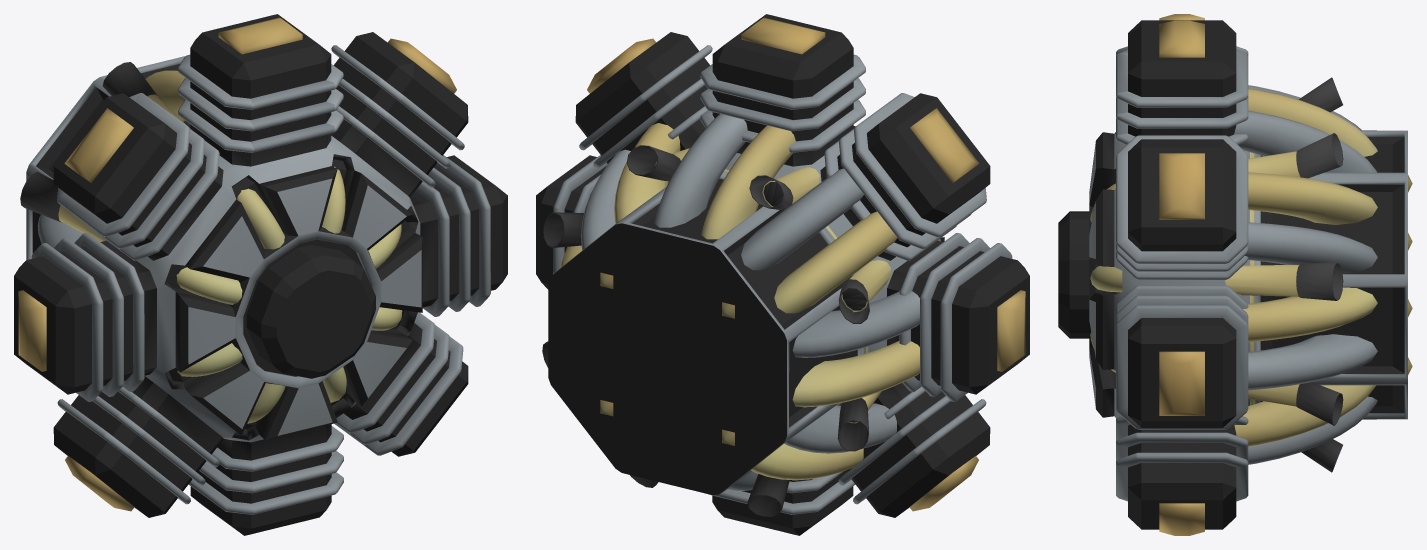
File: Radial_Engine.obj
3 renders of one model, left to right at view 1: azimuth 30°, elevation 25°; view 2: azimuth 150°, elevation 25°; view 3: azimuth 270°, elevation 25°, orthographic. The views are drawn at different scales.
Visible parts, largest first — view 1: Engine_Torus.013; view 2: Engine_Torus.013; view 3: Engine_Torus.013.
Part boxes in pixels (left/top/right/bottom): Engine_Torus.013: left=14, top=14, right=507, bottom=535; Engine_Torus.013: left=536, top=14, right=1029, bottom=535; Engine_Torus.013: left=1058, top=14, right=1412, bottom=535.
Size of the model in its own units: 3.9 by 3.9 by 2.58.
